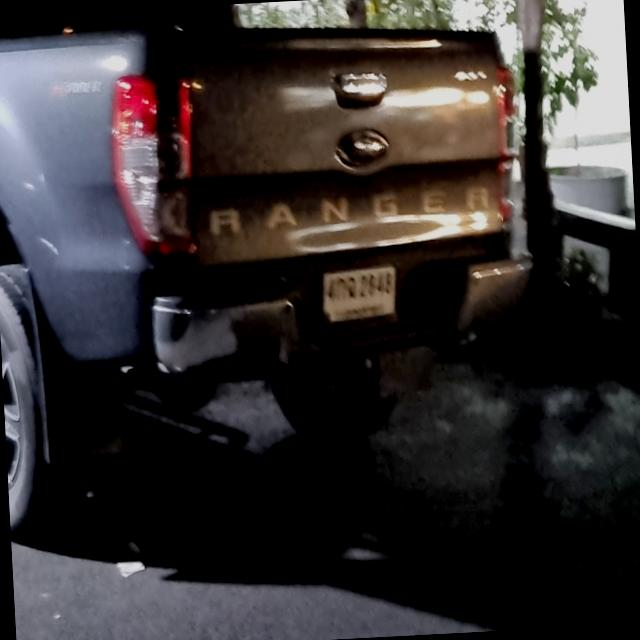license_plate: (311, 258, 406, 335)
